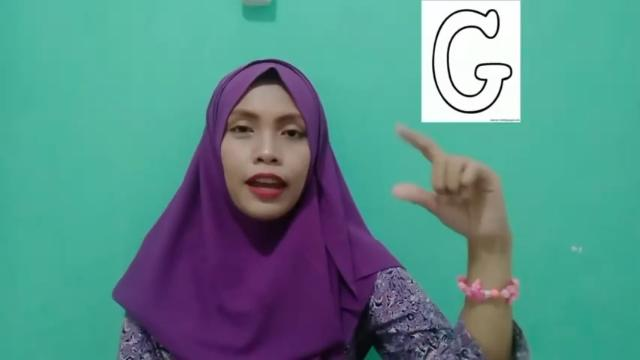G: (391, 122, 515, 242)
